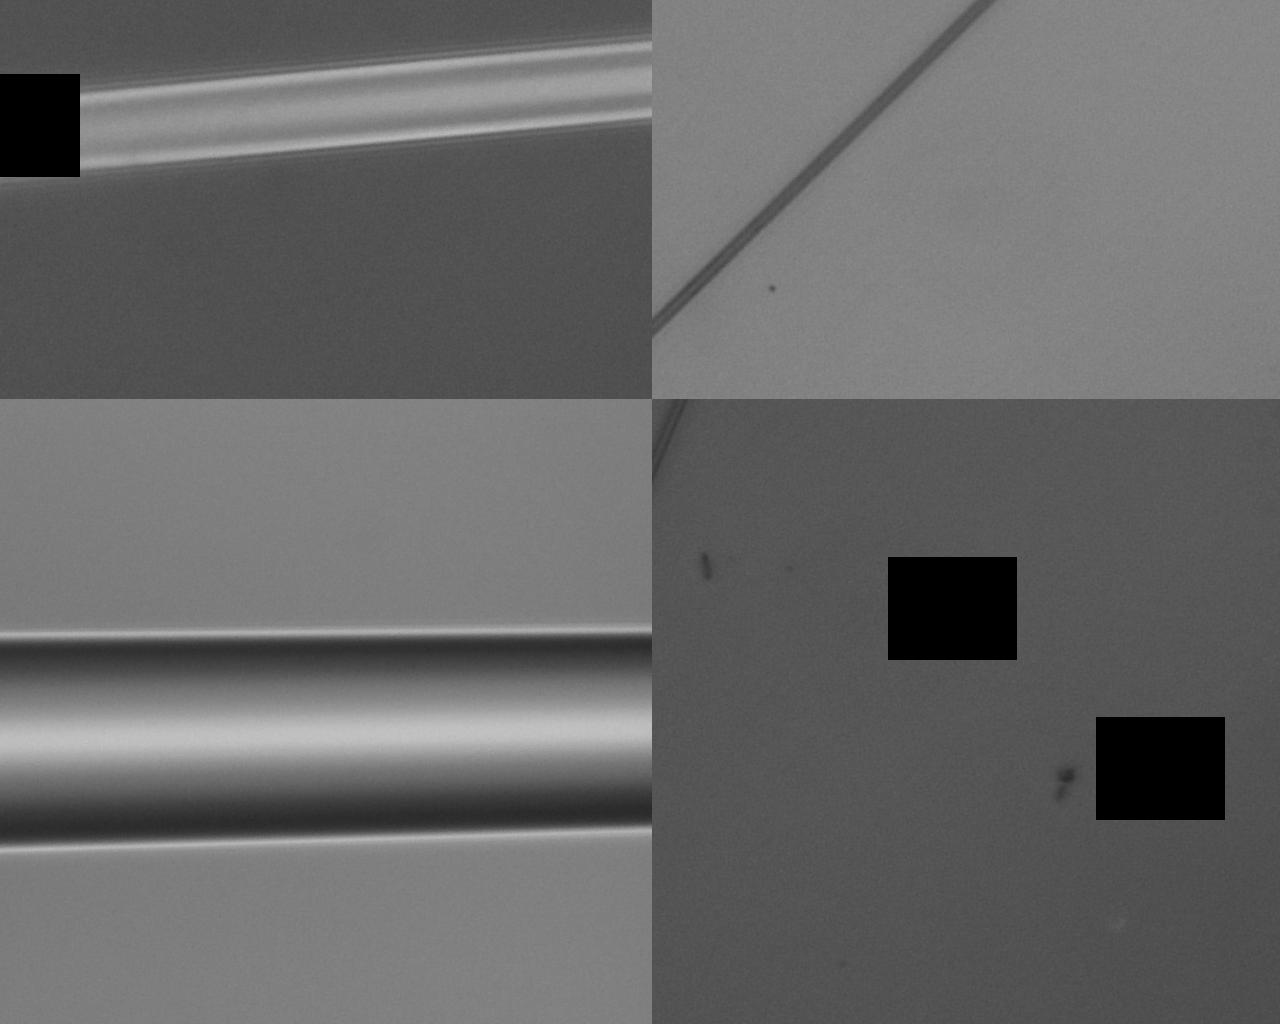fiber: (699, 0, 1065, 593), (627, 593, 1009, 1024), (373, 0, 582, 593), (377, 593, 446, 1024)
